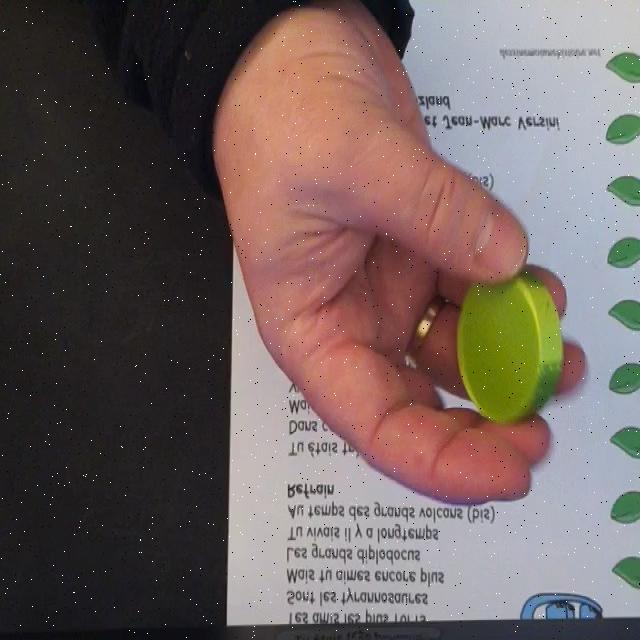round: (456, 261, 564, 425)
